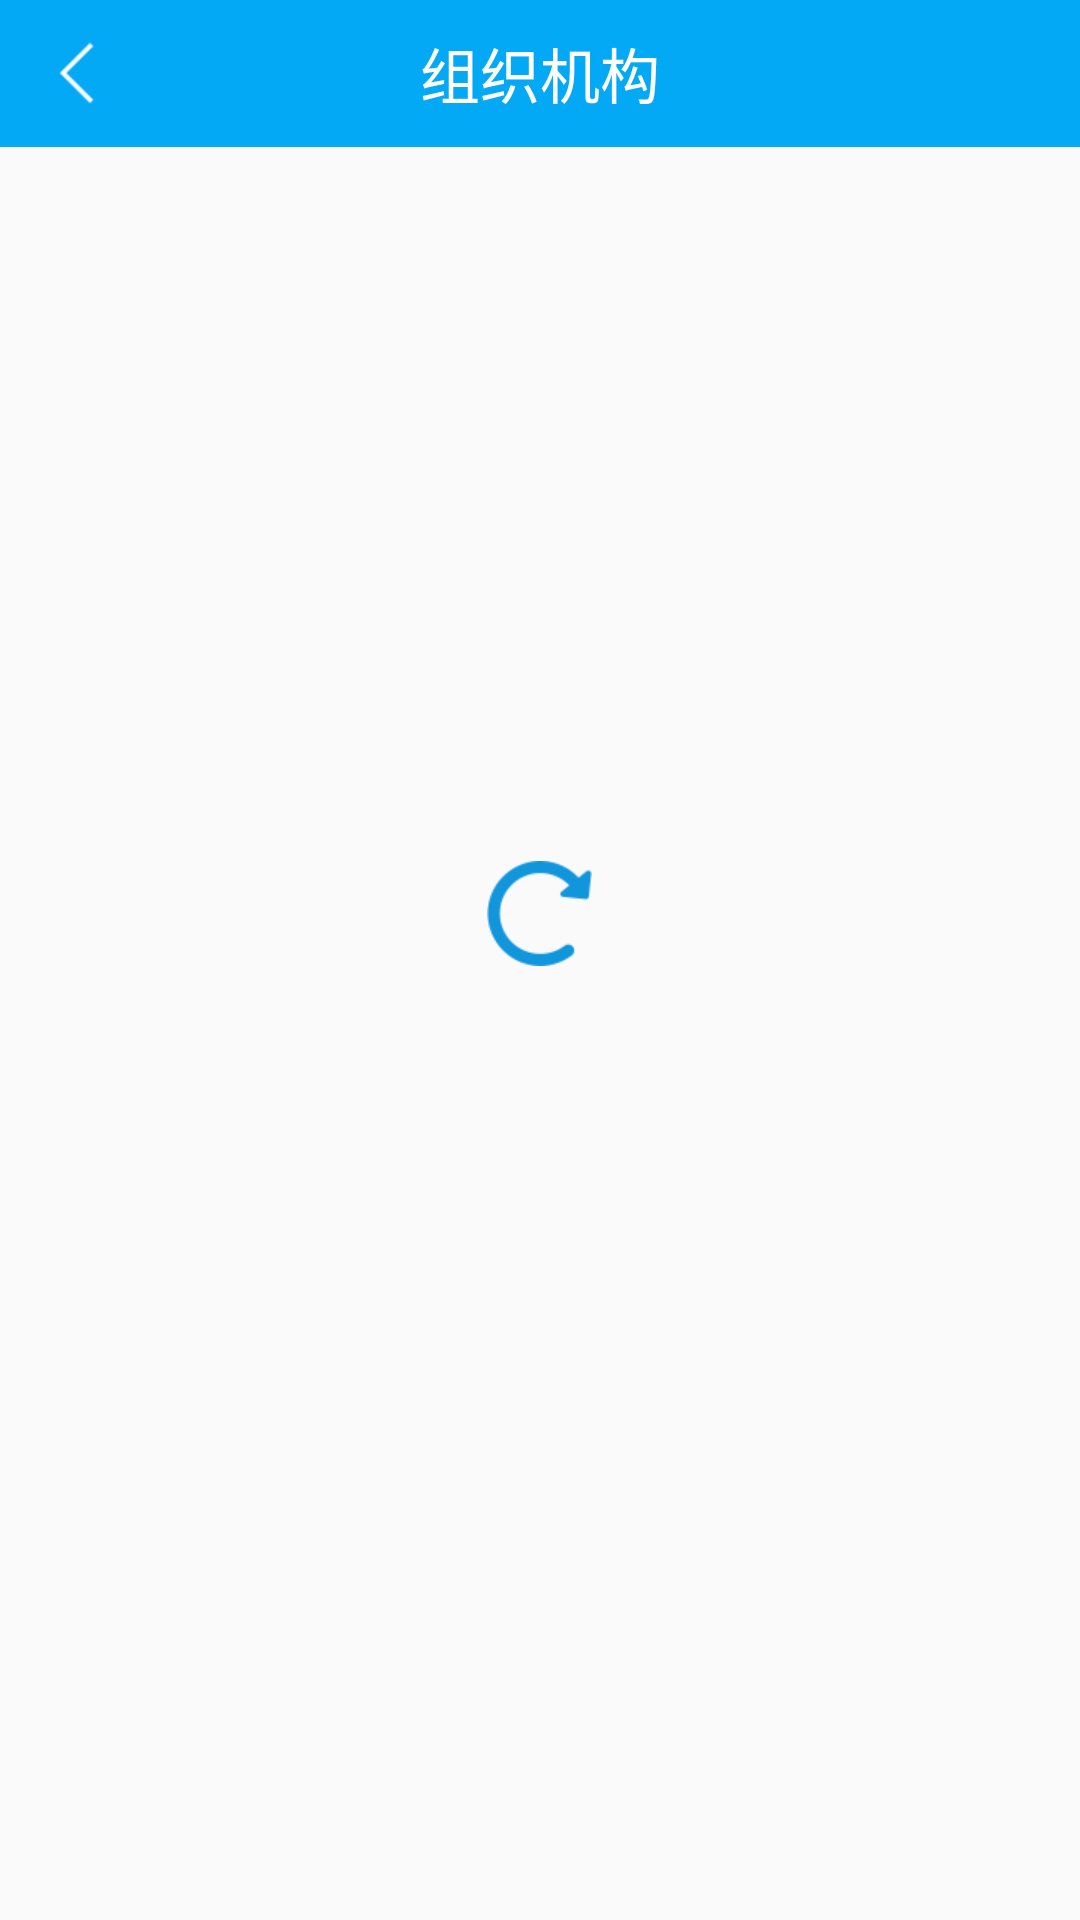

Named icons in this screenshot (1080 × 1920) and their centers, (x=x, y=y):
back: (x=76, y=73)
